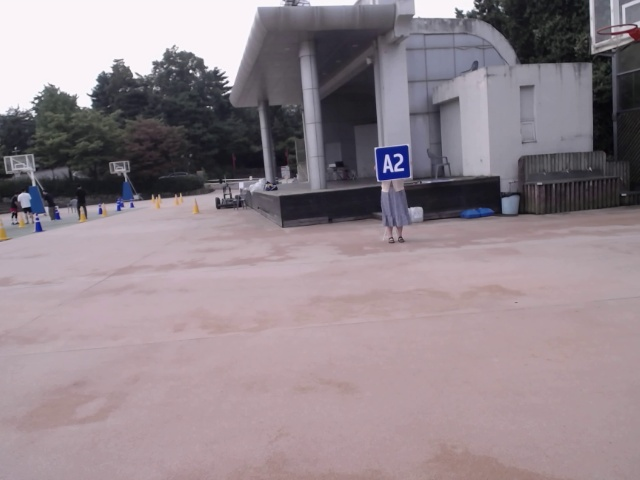delivery_a2: (375, 143, 411, 182)
